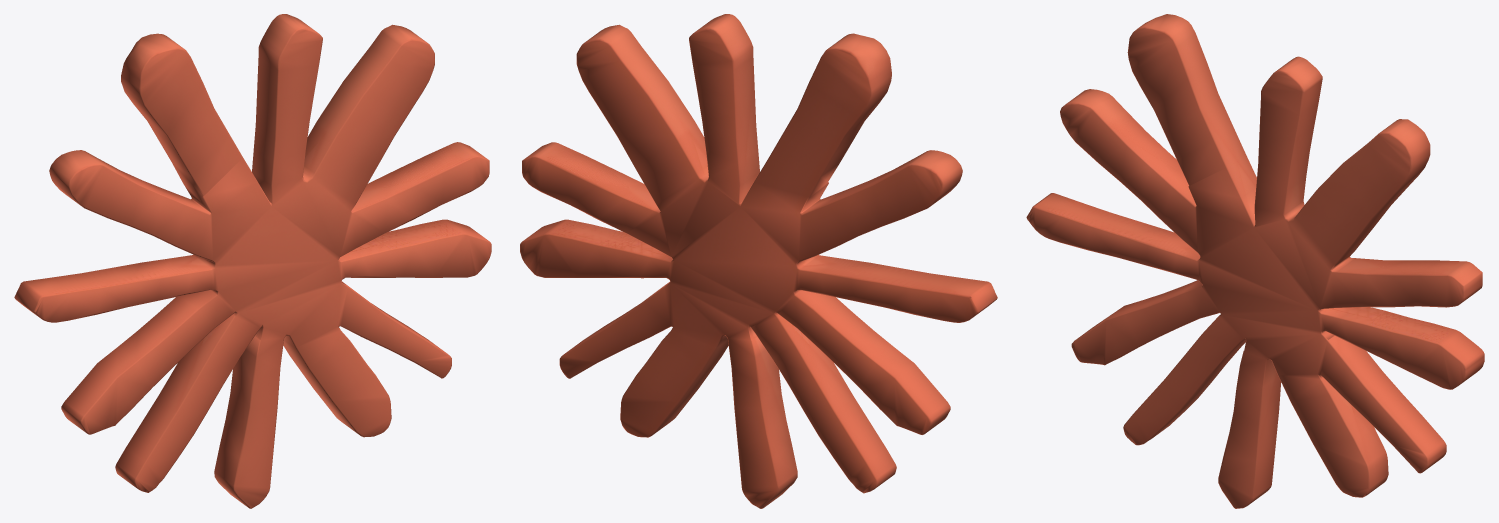
The model's file is starburst.glb.
3 renders of one model, left to right at view 1: azimuth 30°, elevation 25°; view 2: azimuth 150°, elevation 25°; view 3: azimuth 330°, elevation 25°, orthographic. The views are drawn at different scales.
Size of the model in its own units: 1.9 by 1.91 by 0.1448.
Materials: 1 (1 with a texture image).
